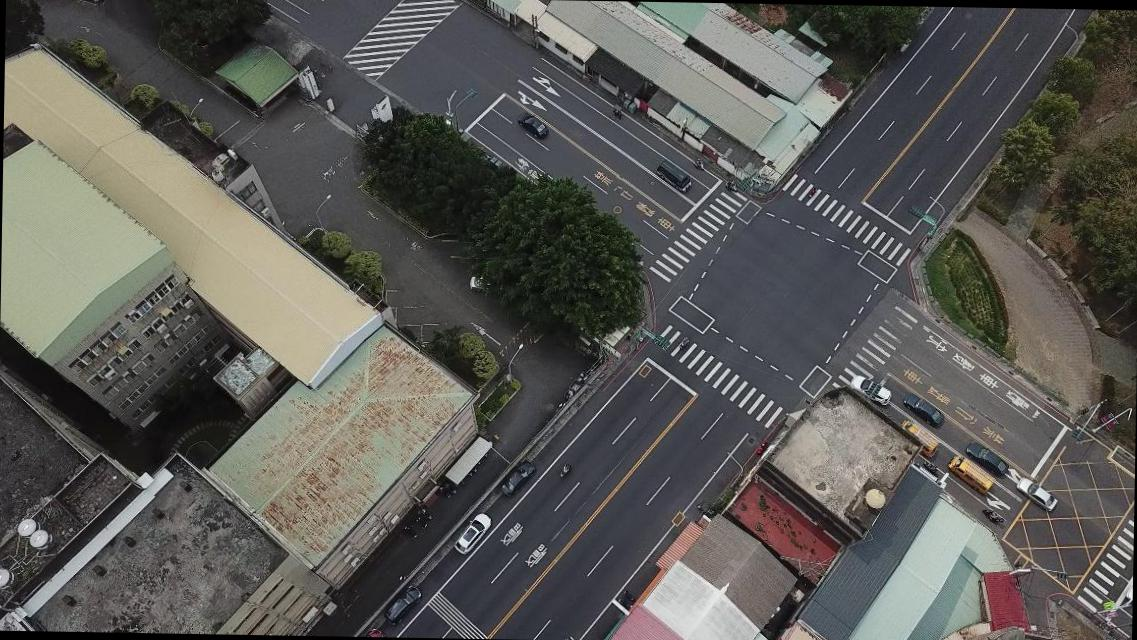vehicle: (947, 453, 997, 492), (965, 440, 1012, 478), (382, 582, 422, 626), (1016, 474, 1062, 512), (453, 510, 491, 556), (898, 418, 941, 458), (498, 458, 538, 496), (903, 390, 945, 426), (850, 373, 892, 407), (656, 158, 693, 194), (515, 110, 550, 140)
